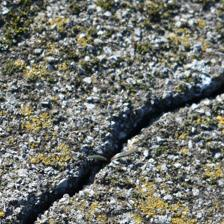Crack: (25, 84, 219, 217)
